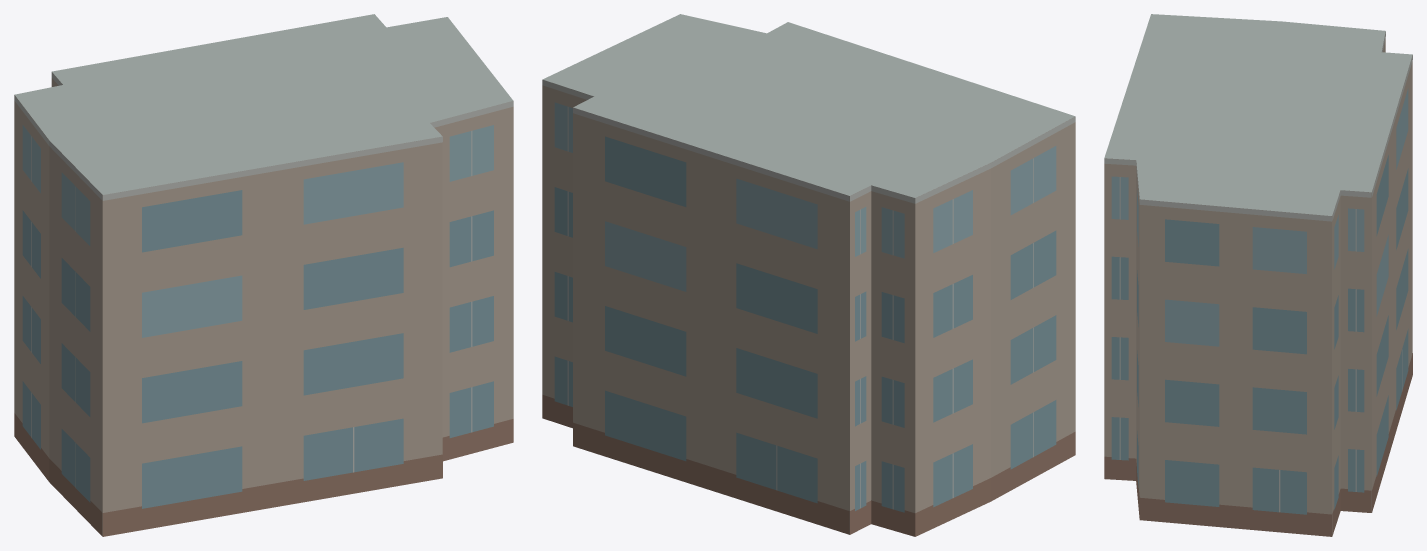
Rendered from survey-upis-32462876.glb.
3 views of the same model, side by side, from view 1: azimuth 30°, elevation 25°; view 2: azimuth 150°, elevation 25°; view 3: azimuth 270°, elevation 25° (orthographic). The views are drawn at different scales.
Visible parts, largest first — view 1: survey-upis-32462876.tmp; view 2: survey-upis-32462876.tmp; view 3: survey-upis-32462876.tmp.
Part boxes in pixels (x1=…): survey-upis-32462876.tmp: x1=14, y1=14, x2=513, y2=536; survey-upis-32462876.tmp: x1=542, y1=14, x2=1075, y2=536; survey-upis-32462876.tmp: x1=1104, y1=14, x2=1412, y2=536.
Bounding box in the file's own units: 19.34 × 14.3 × 12.48.
